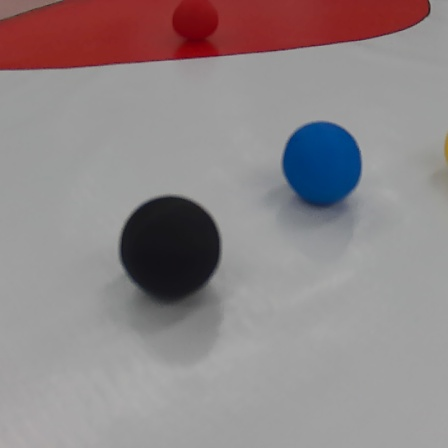black: (114, 193, 223, 302)
blue: (278, 119, 369, 205)
red: (172, 3, 220, 47)
red_base: (0, 0, 431, 71)
